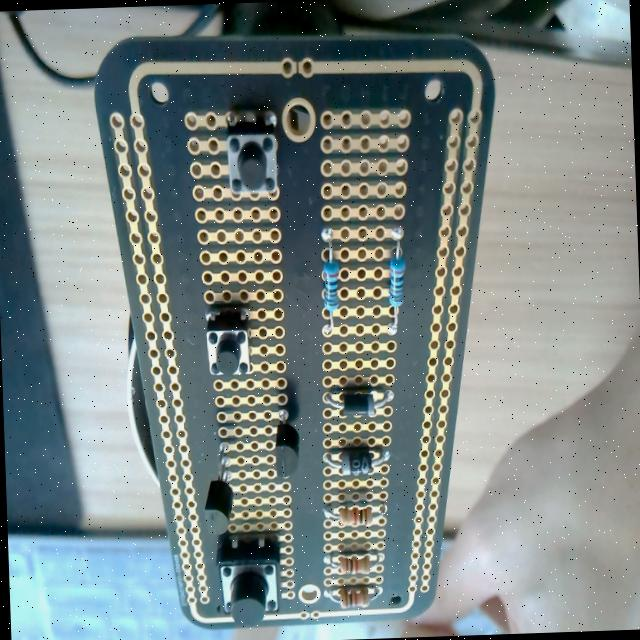diode: (324, 387, 392, 418), (324, 447, 389, 477)
resistor: (382, 224, 410, 338), (318, 225, 342, 336), (325, 499, 388, 529), (326, 550, 386, 578), (326, 584, 382, 608)
switch: (216, 534, 281, 622), (225, 115, 279, 198), (205, 307, 252, 379)
transistor: (203, 444, 237, 534), (270, 407, 300, 478)
